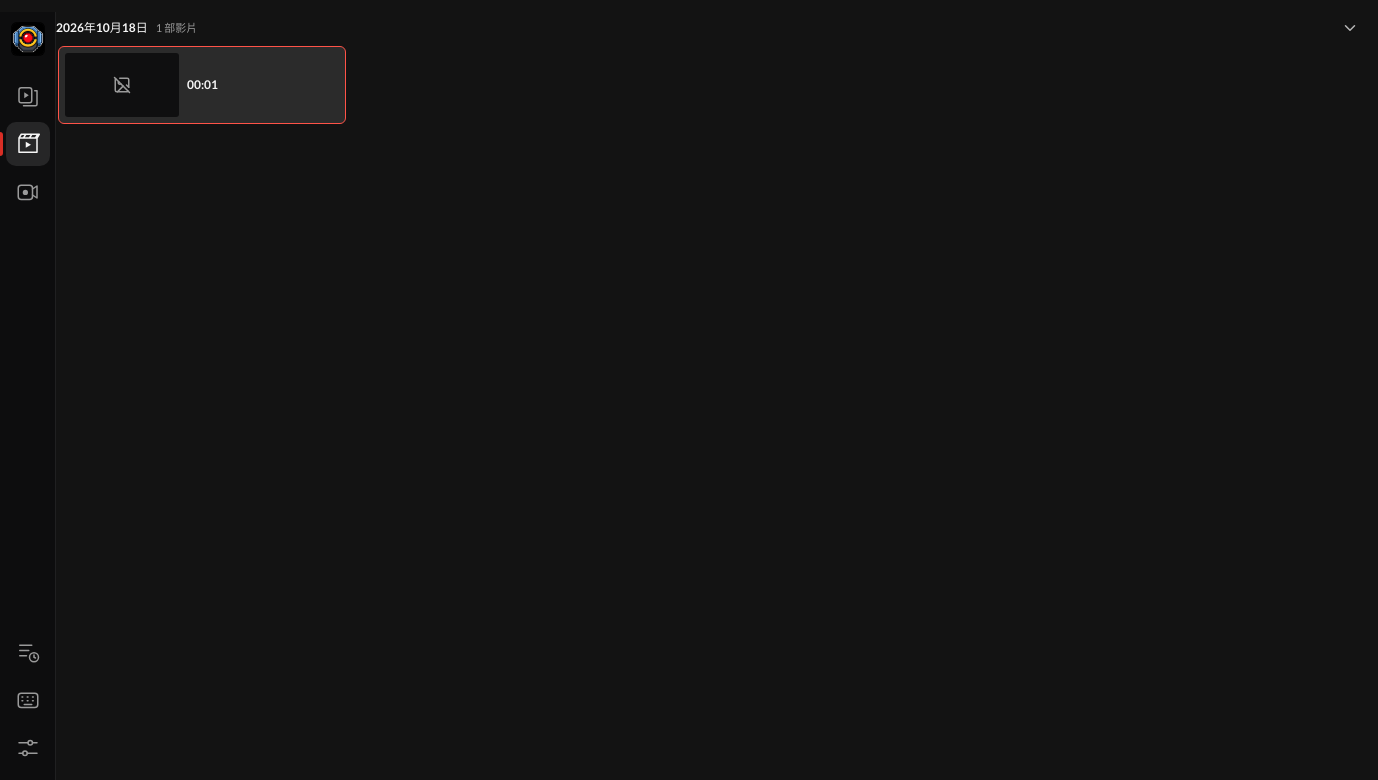
Same-day video list › Collapsed preference is saved through settings, persists on remount, and does not write back the default
The image size is (1378, 780).
Later steps or results of the test are not shown.
Click the button named "收合同日影片".
click(1350, 28)  # box [1334,12,1366,44]
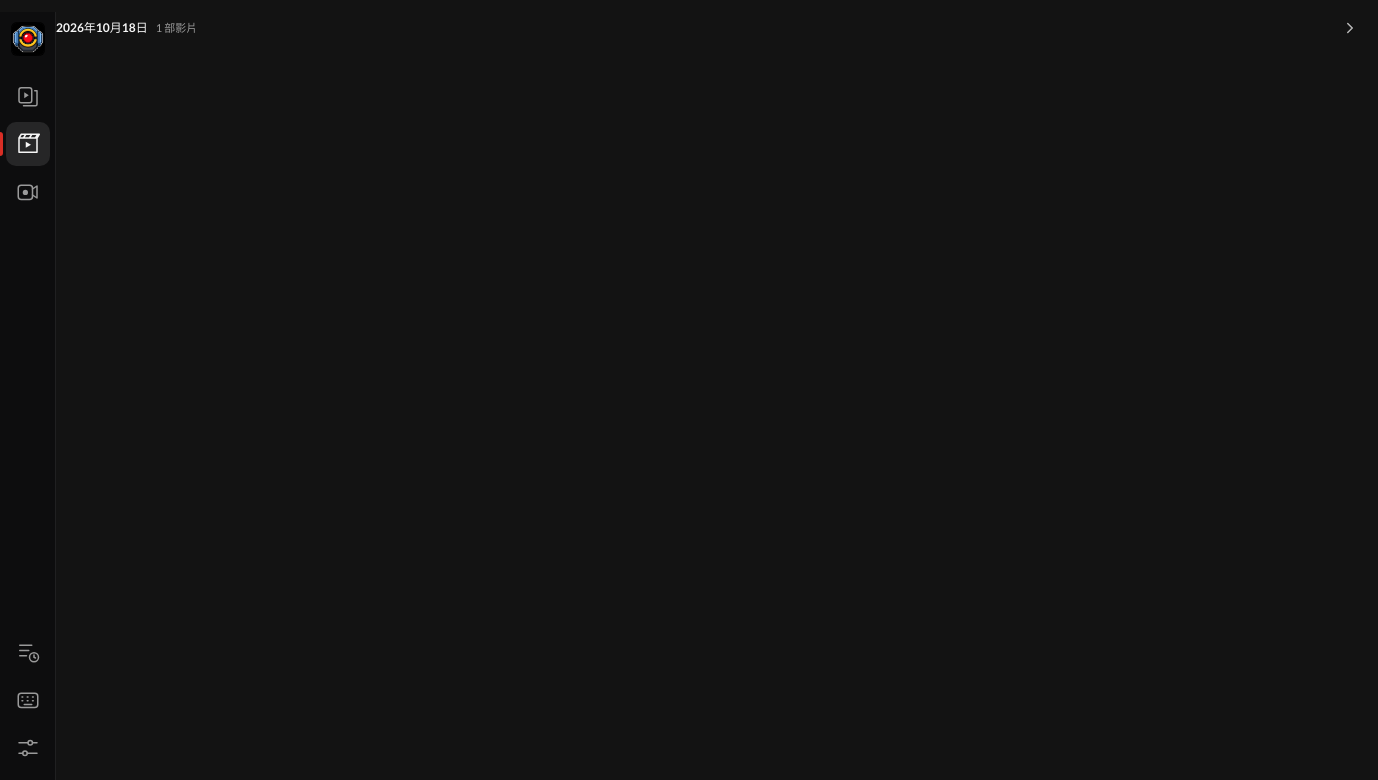
Now the button named "展開同日影片" is collapsed, box [1334,12,1366,44]
